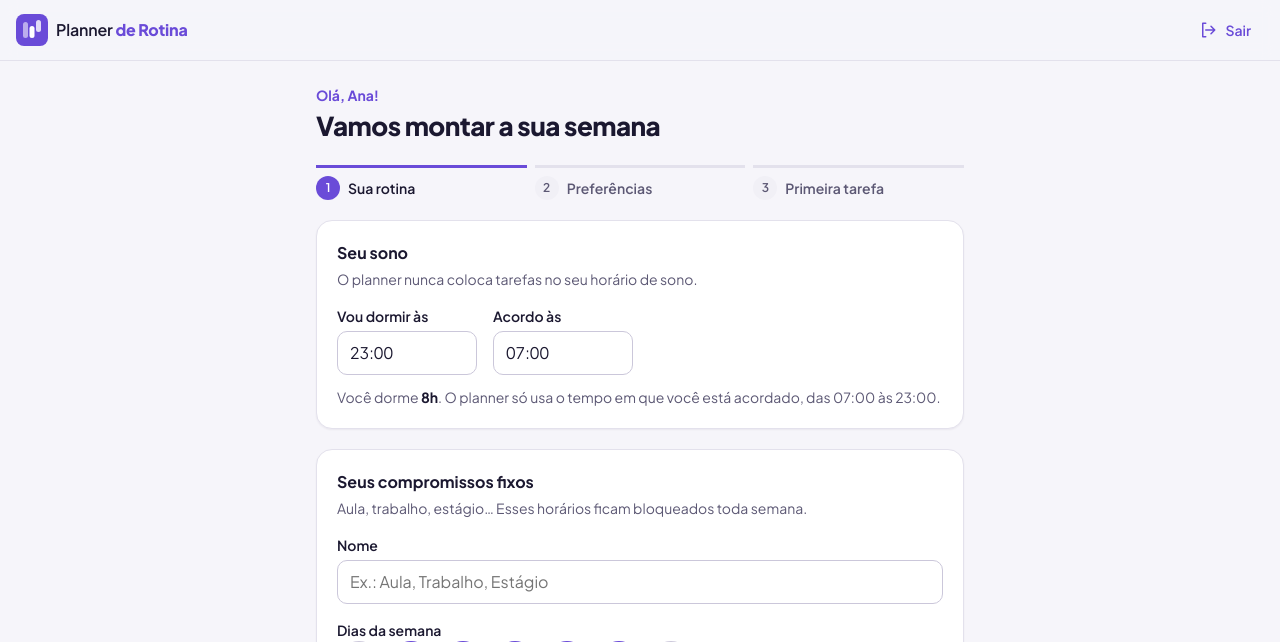
it: passo a passo (RF15) › avisa sono curto, aceita só meia em meia hora, permite voltar e conclui
Earlier steps of the test are not shown.
Later steps or results of the test are not shown.
Expected: the heading "Vamos montar a sua semana" is shown, [316, 109, 660, 142]
Replace the text in the field labelled "Vou dormir às" with "0100" at (407, 353), box [337, 331, 477, 375]
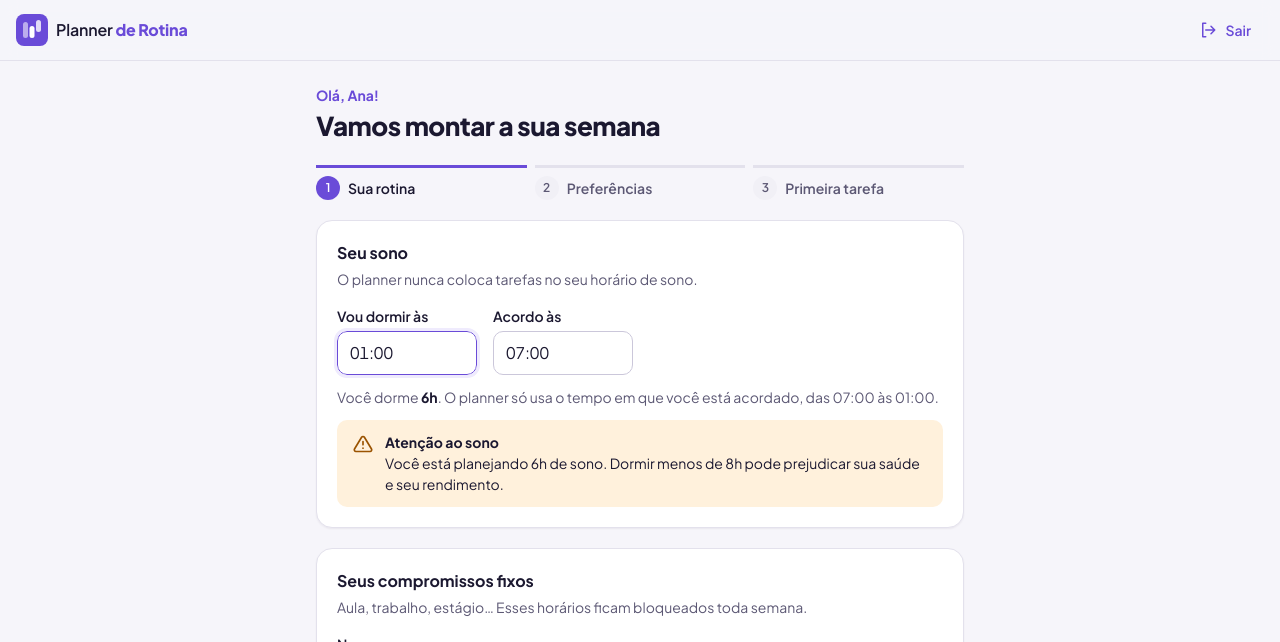
Expected: the field labelled "Vou dormir às" holds "01:00"
Expected: the text "Dormir menos de 8h" is shown, [385, 454, 920, 493]
Replace the text in the field labelled "Vou dormir às" with "2300" at (407, 353), box [337, 331, 477, 375]
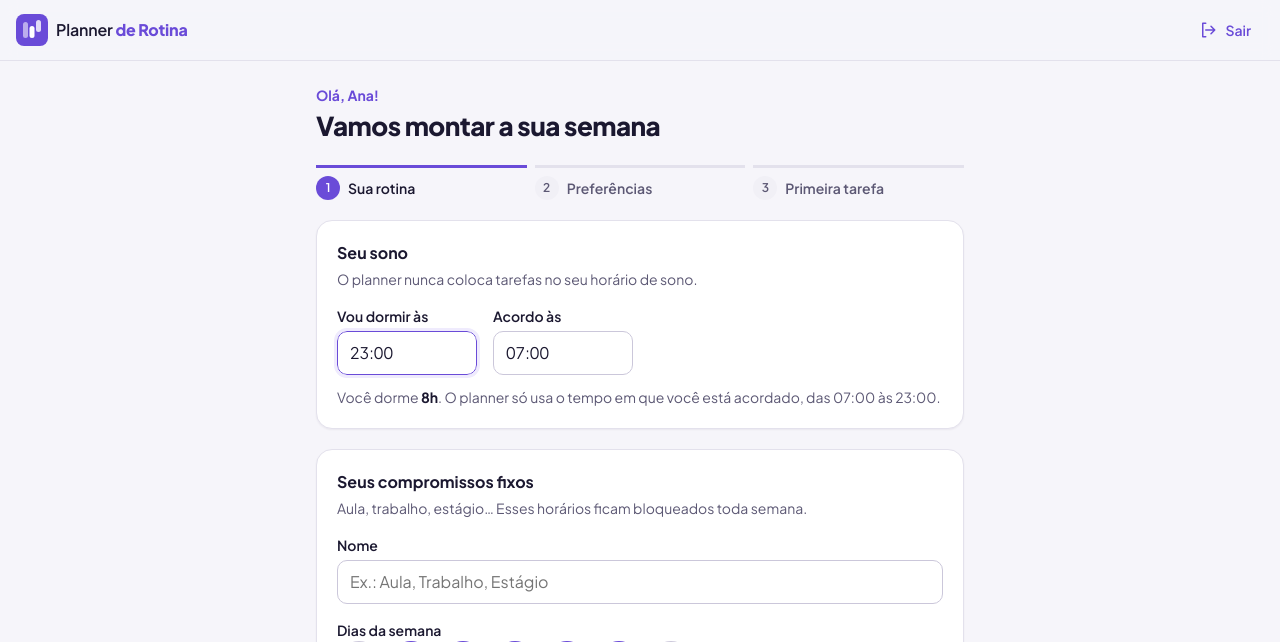
Expected: the text "Dormir menos de 8h" is not shown
Type "Aula" into the field labelled "Nome" at (640, 582), box [337, 560, 943, 604]
(page scrolled)
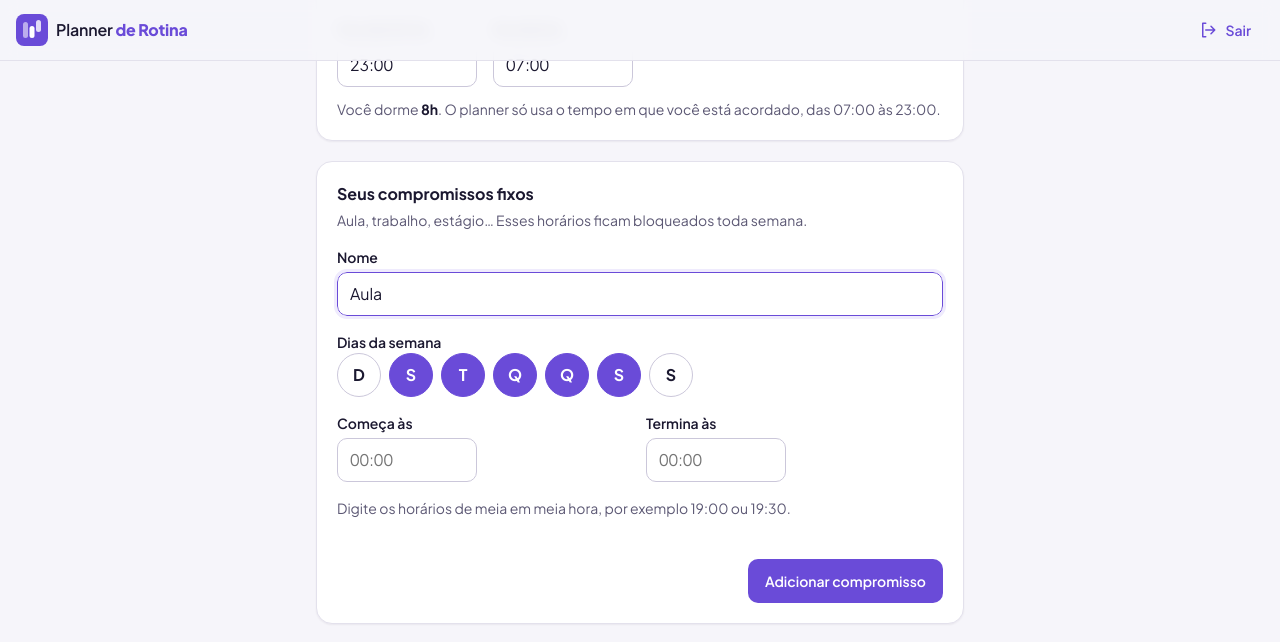
Type "1915" into the field labelled "Começa às" at (407, 460), box [337, 438, 477, 482]
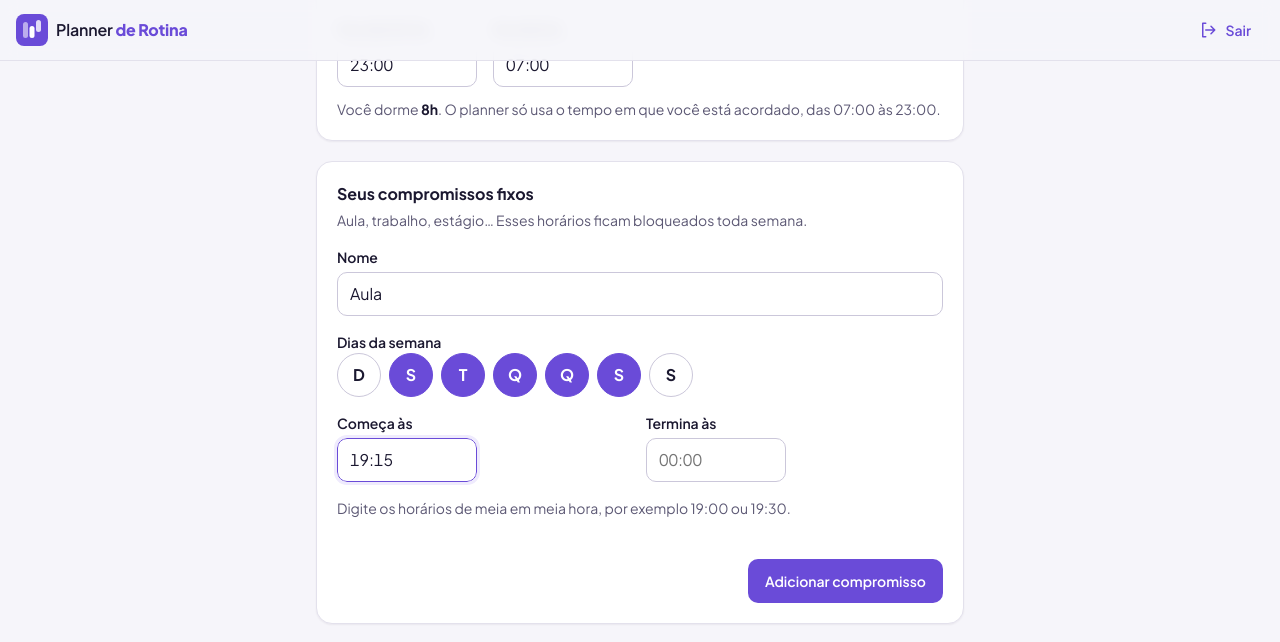
Type "2230" into the field labelled "Termina às" at (716, 460), box [646, 438, 786, 482]
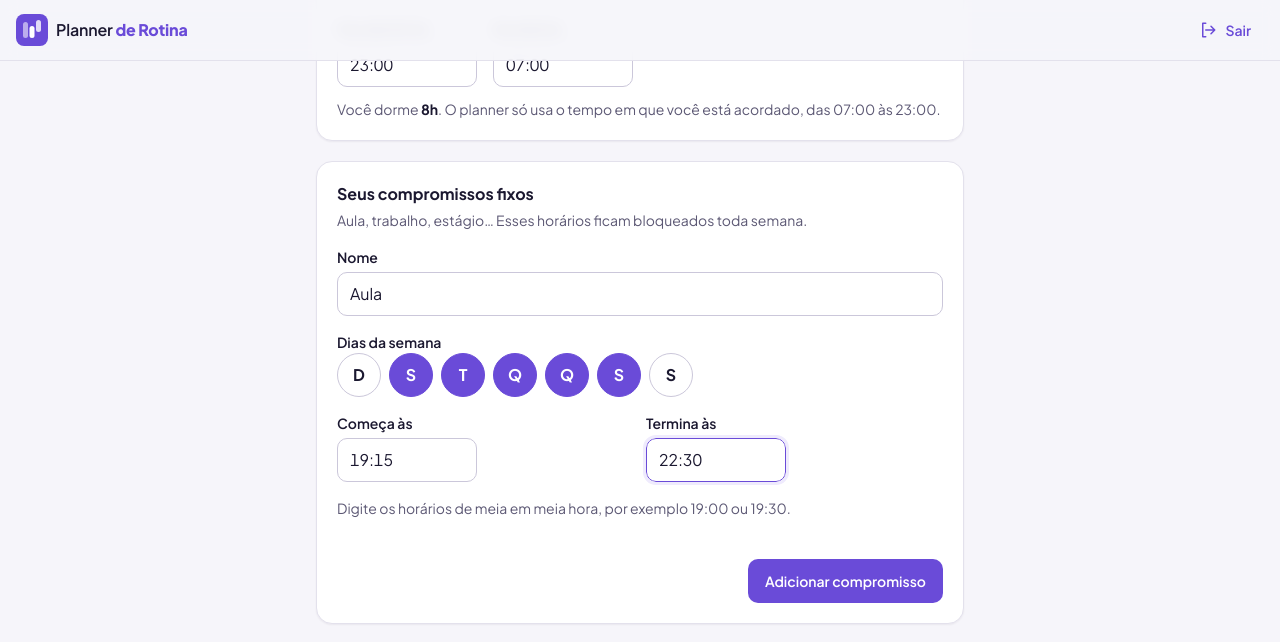
Click the button "Adicionar compromisso" at (846, 581), box [748, 559, 943, 603]
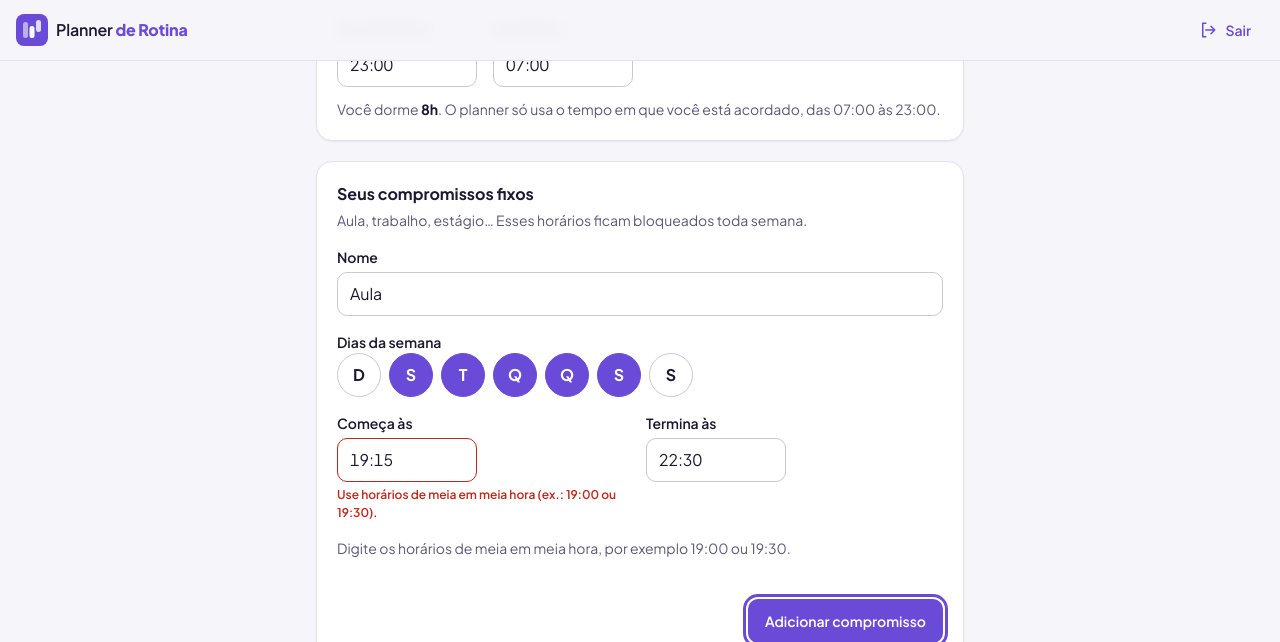
Expected: the text "Use horários de meia em meia hora (ex.: 19:00 ou 19:30)." is shown, [337, 486, 634, 522]
